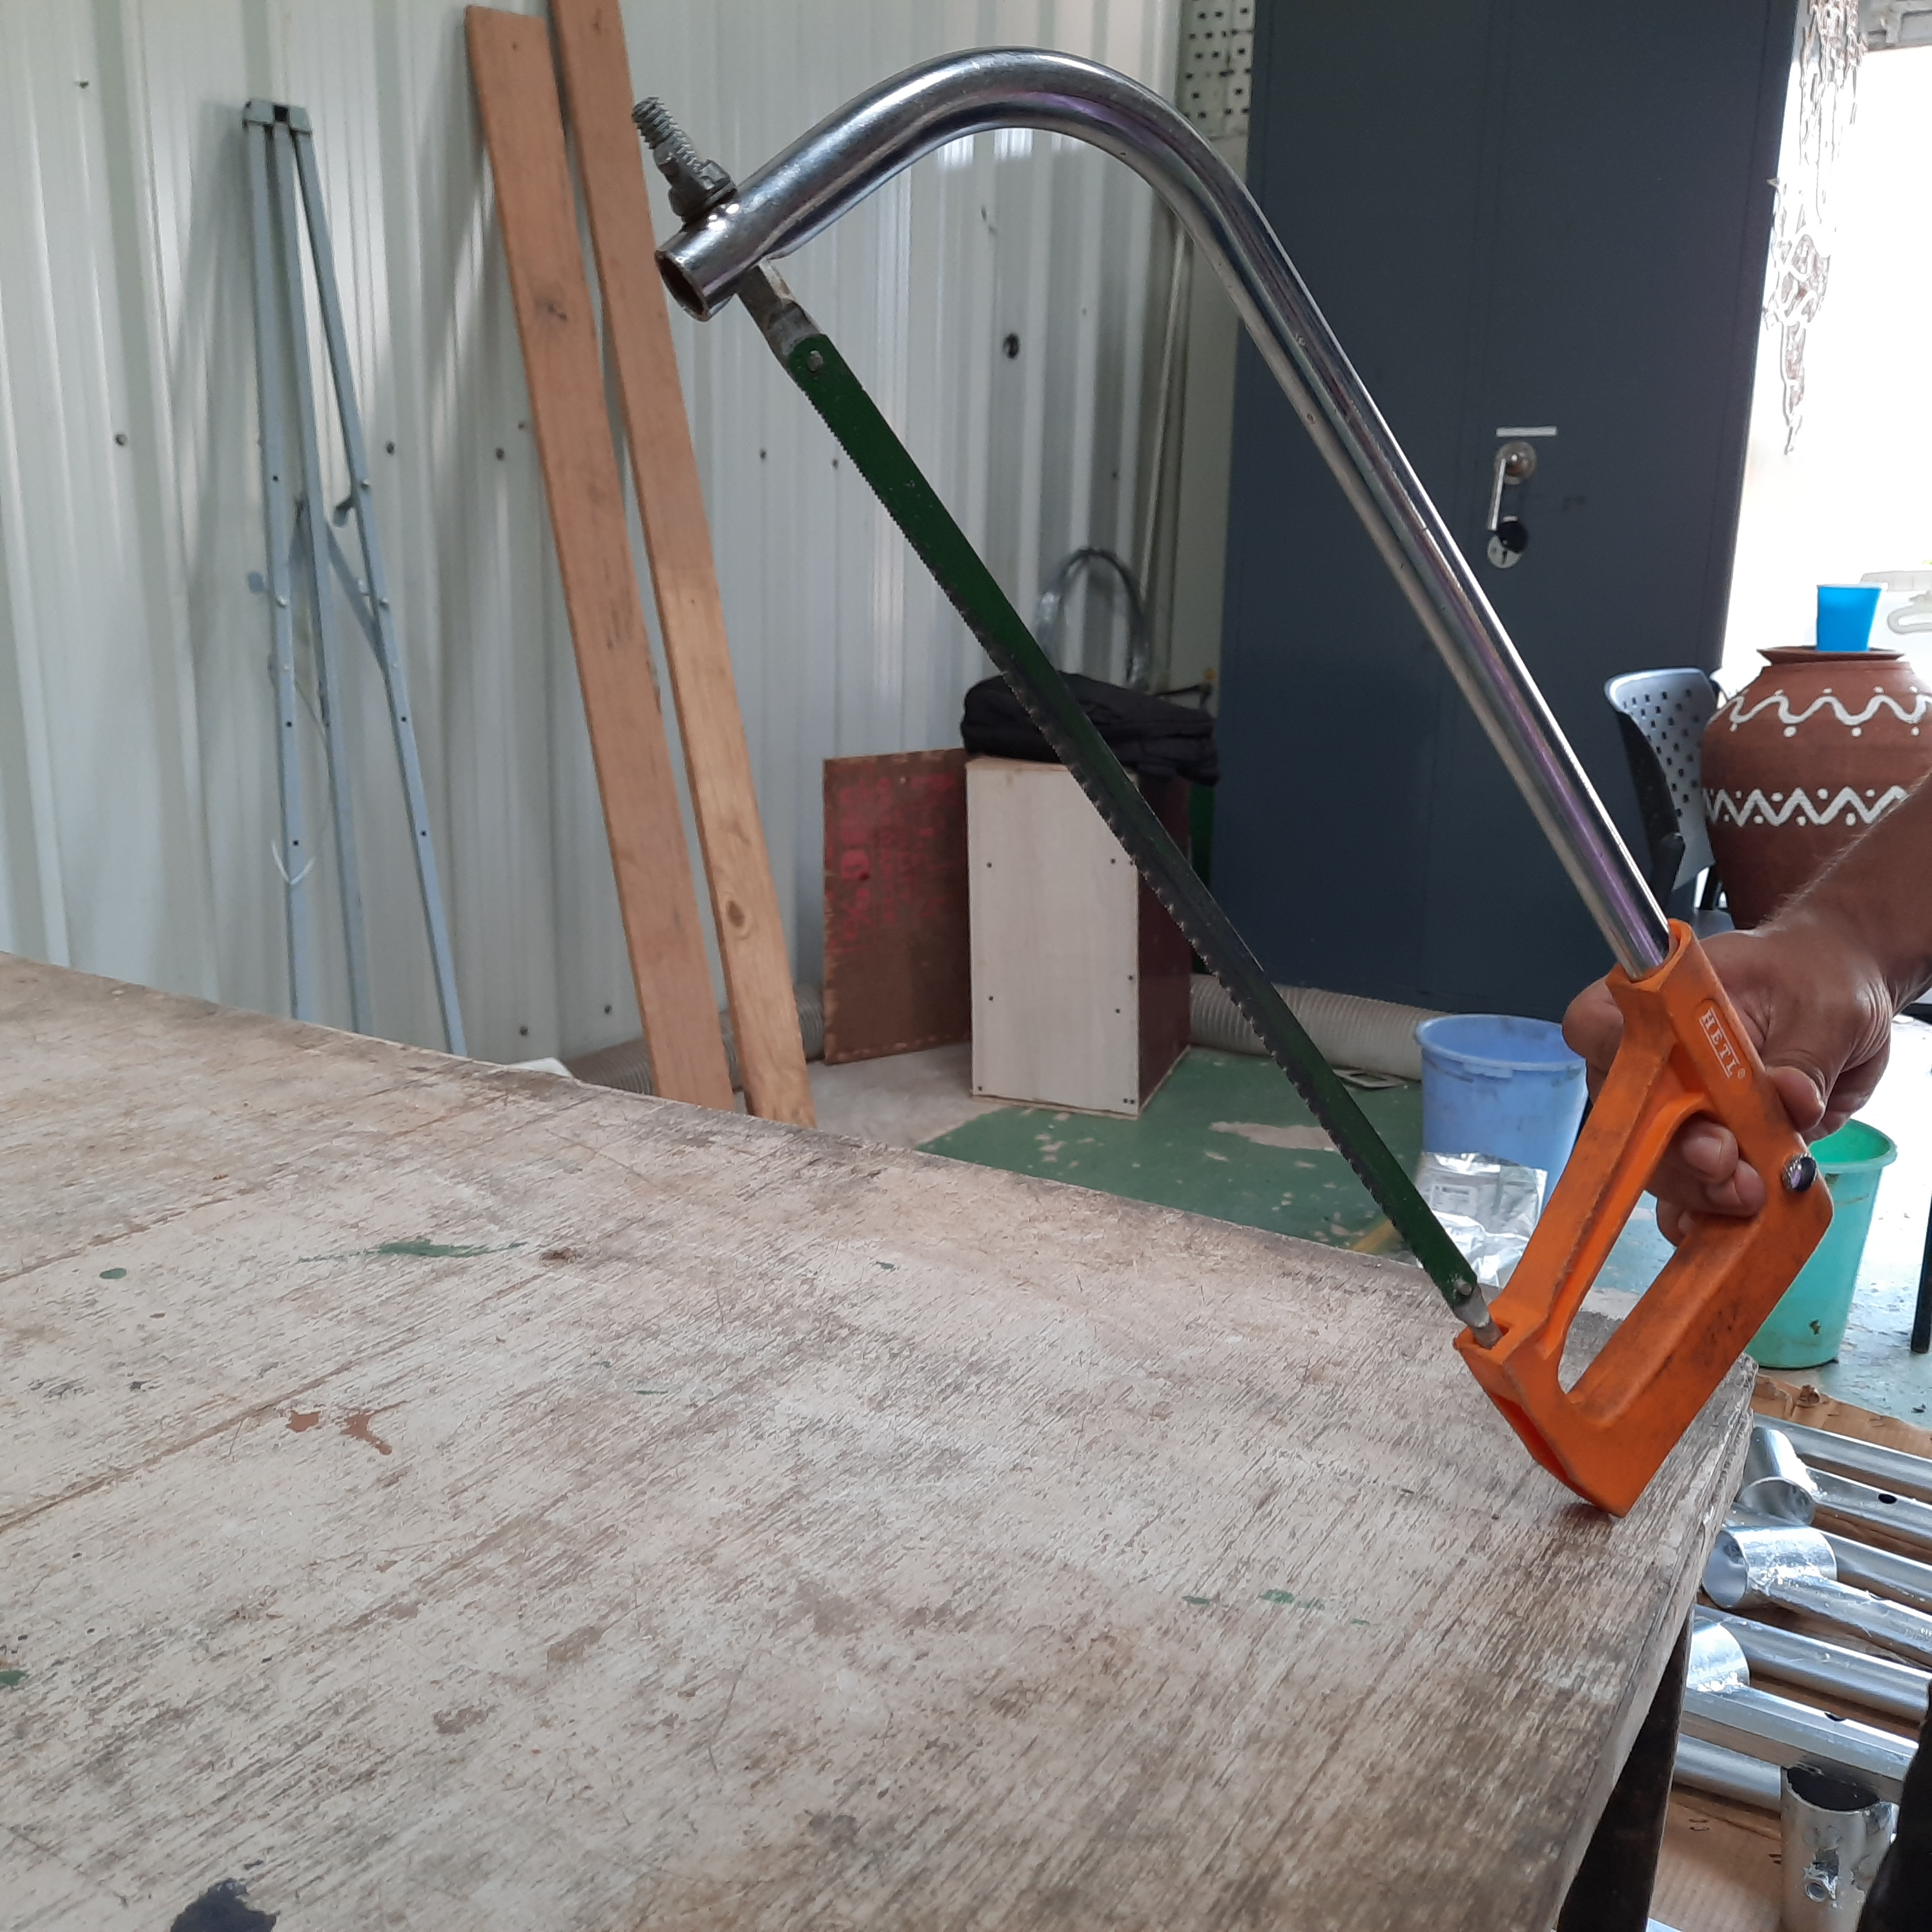Hexaframe: (589, 28, 1856, 1539)
